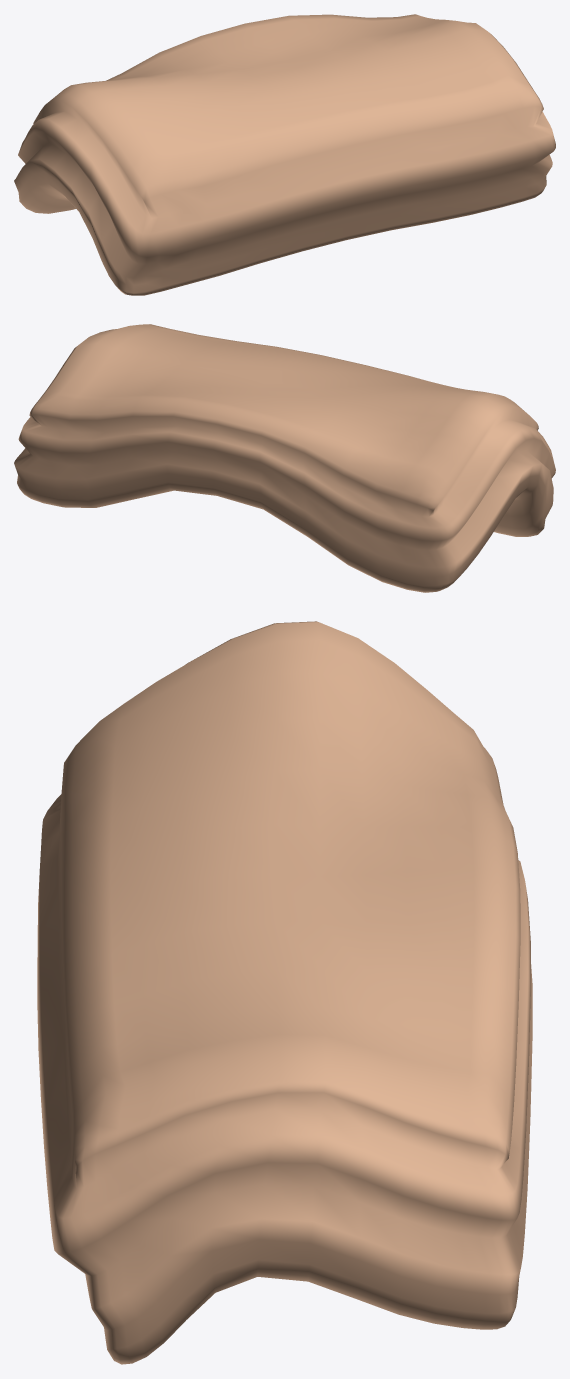
The model's file is towelsofa.glb.
3 views of the same model, one above another, from view 1: azimuth 30°, elevation 25°; view 2: azimuth 150°, elevation 25°; view 3: azimuth 270°, elevation 25° (orthographic). The views are drawn at different scales.
Visible parts, largest first — view 1: Cube.331; view 2: Cube.331; view 3: Cube.331.
Part boxes in pixels (<box>): Cube.331: <box>14,14,555,295</box>; Cube.331: <box>14,324,555,592</box>; Cube.331: <box>37,621,532,1364</box>.
Bounding box in the file's own units: 1.67 × 0.6065 × 0.7759.
